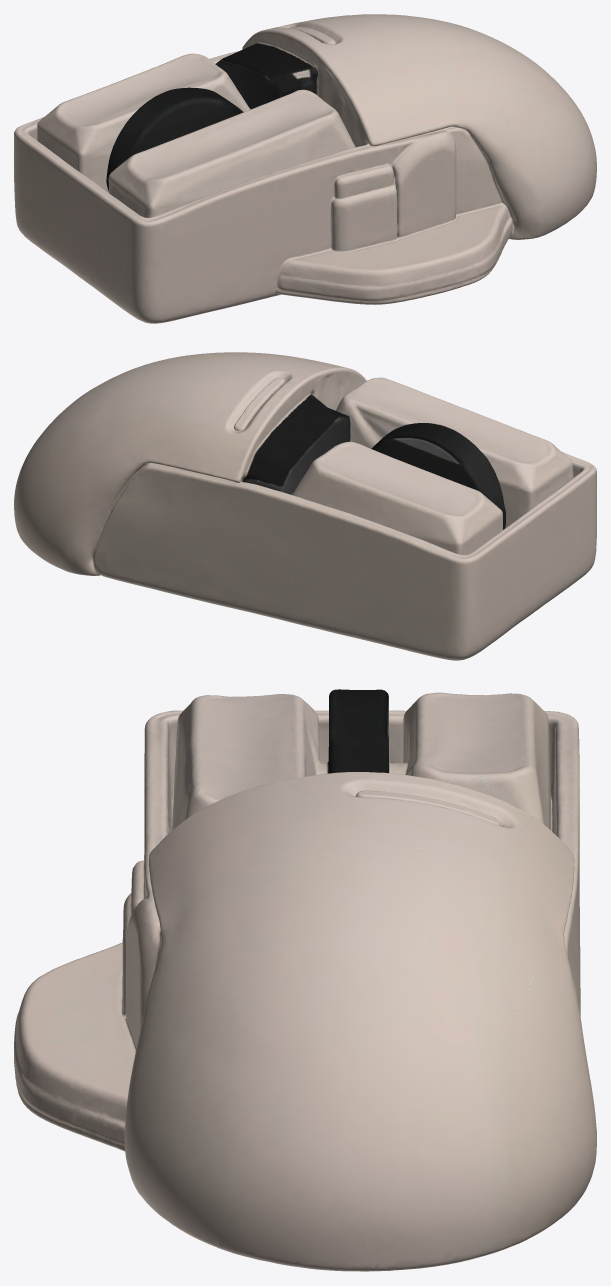
File: mouse.glb
The picture shows the model from 3 angles, top to bottom: view 1: azimuth 30°, elevation 25°; view 2: azimuth 150°, elevation 25°; view 3: azimuth 270°, elevation 25°; orthographic projection. The views are drawn at different scales.
Size of the model in its own units: 1.9 by 0.6617 by 1.19.
1 material, 1 textured.
